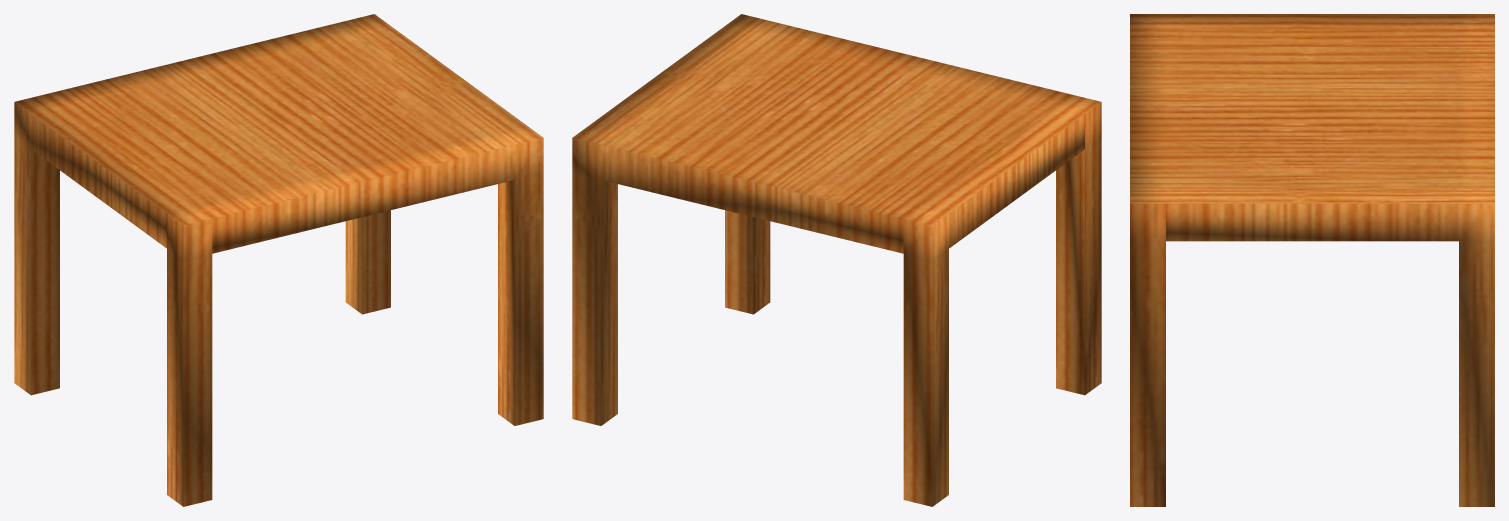
The model's file is Small_Tablefbx.fbx_Scene.fbx.
The picture shows the model from 3 angles, left to right: view 1: azimuth 30°, elevation 25°; view 2: azimuth 150°, elevation 25°; view 3: azimuth 270°, elevation 25°; orthographic projection. The views are drawn at different scales.
Visible parts, largest first — view 1: Table; view 2: Table; view 3: Table.
Part boxes in pixels (<box>): Table: <box>14,14,543,506</box>; Table: <box>572,14,1101,506</box>; Table: <box>1130,14,1494,506</box>.
Size of the model in its own units: 93.87 by 70.07 by 76.35.
Materials: 1 (1 with a texture image).
